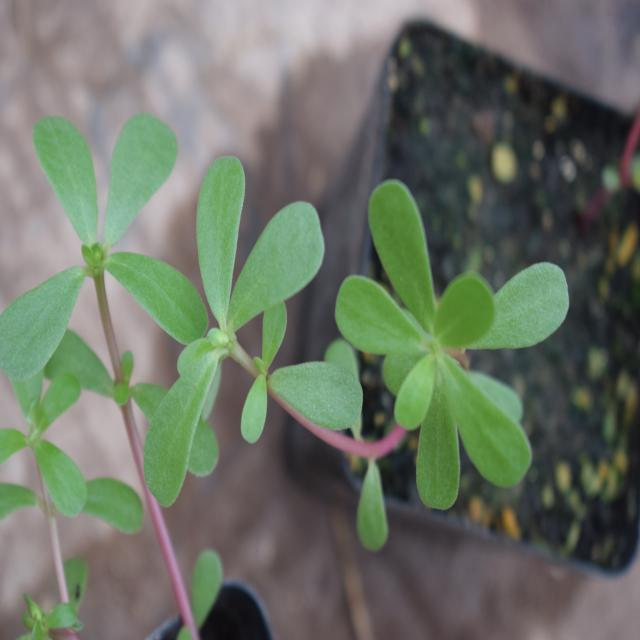purslane: (8, 110, 568, 563)
